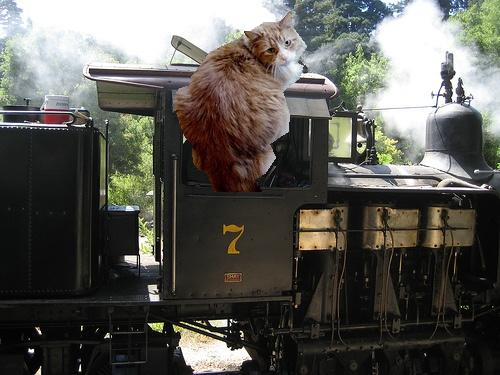tampered: (173, 12, 307, 192)
